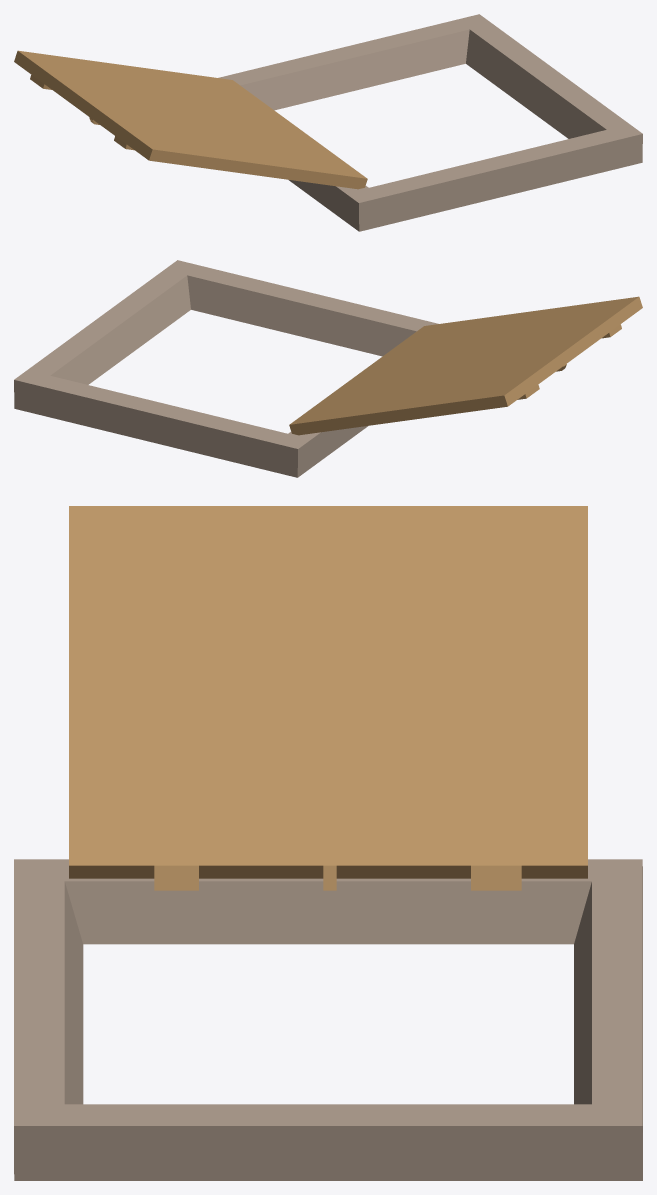
Rendered from exit02.fbx.
3 renders of one model, top to bottom at view 1: azimuth 30°, elevation 25°; view 2: azimuth 150°, elevation 25°; view 3: azimuth 270°, elevation 25°, orthographic. The views are drawn at different scales.
Visible parts, largest first — view 1: frame, door; view 2: frame, door; view 3: door, frame.
Part boxes in pixels (x1,y1,x2,y2): frame: (218,14,642,231); door: (14,50,367,189); frame: (14,260,438,477); door: (289,296,642,435); door: (69,506,587,890); frame: (14,859,642,1180).
Size of the model in its own units: 344 by 81.18 by 202.
